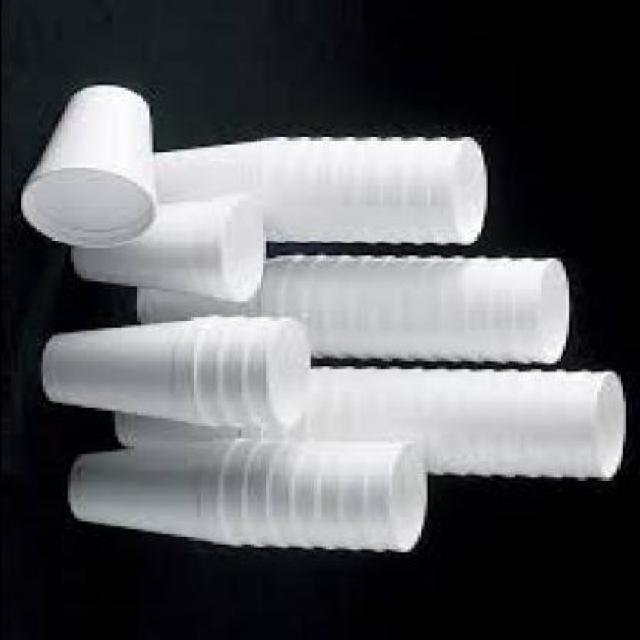PAPER: (117, 369, 628, 483), (135, 256, 574, 366), (69, 440, 429, 554), (151, 139, 492, 250), (45, 320, 309, 434), (22, 87, 158, 253), (72, 203, 271, 305), (41, 320, 214, 428), (70, 442, 242, 549)
